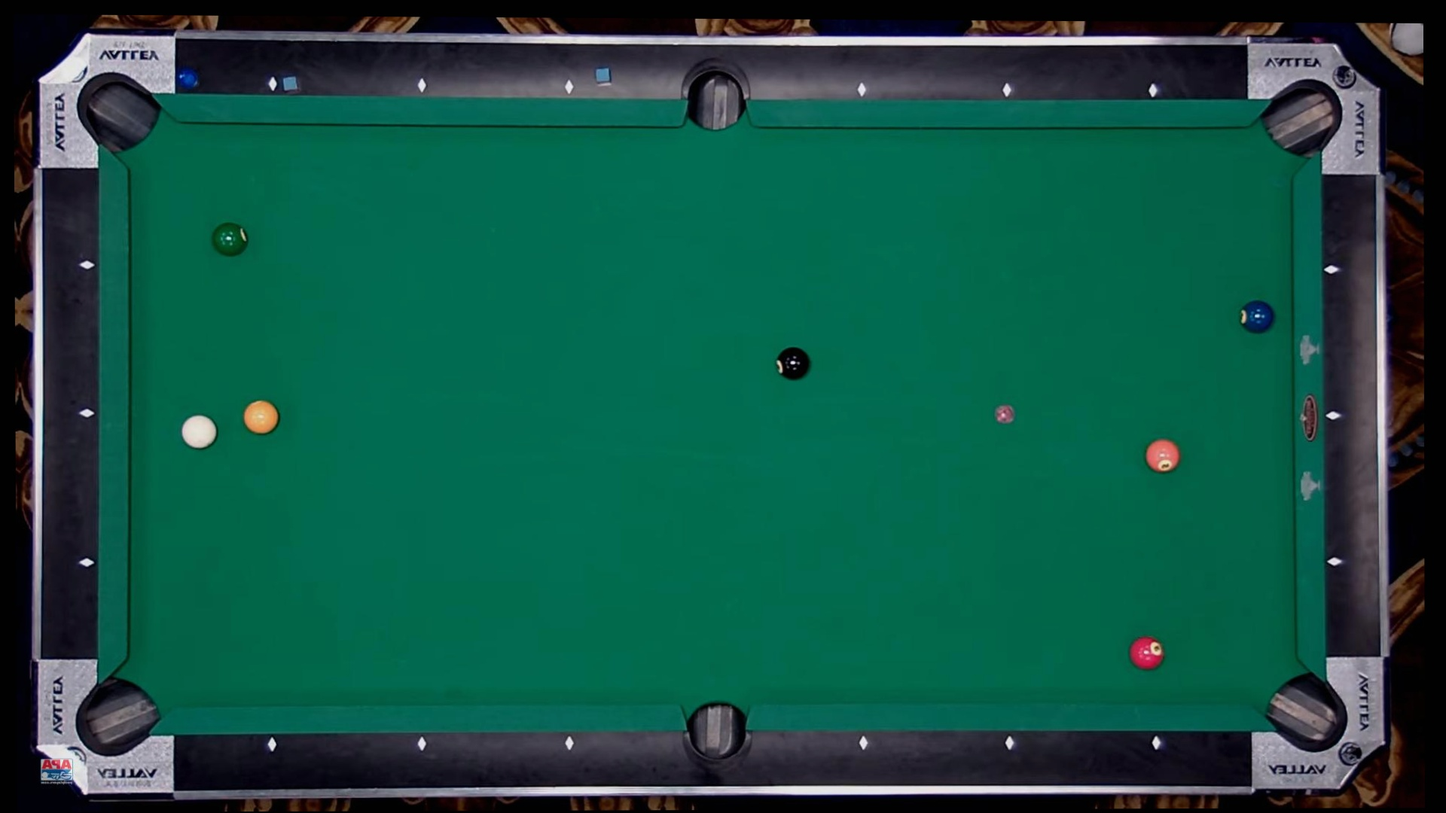Black: (774, 347, 811, 380)
Cue: (181, 414, 218, 449)
Solid: (1330, 557, 1341, 568), (1147, 85, 1158, 96), (81, 558, 92, 569), (418, 738, 429, 749), (564, 738, 575, 749), (859, 737, 870, 748), (1151, 738, 1162, 749), (1002, 86, 1012, 97), (417, 80, 427, 91), (81, 408, 91, 419), (268, 739, 278, 750), (1328, 410, 1338, 420), (1327, 264, 1337, 274), (857, 86, 867, 96), (564, 82, 574, 92), (268, 79, 278, 89), (83, 260, 93, 270), (1005, 738, 1015, 748)
Striped: (211, 222, 248, 256), (1239, 300, 1274, 334), (243, 400, 279, 433), (1128, 636, 1164, 669), (1145, 439, 1181, 472)
